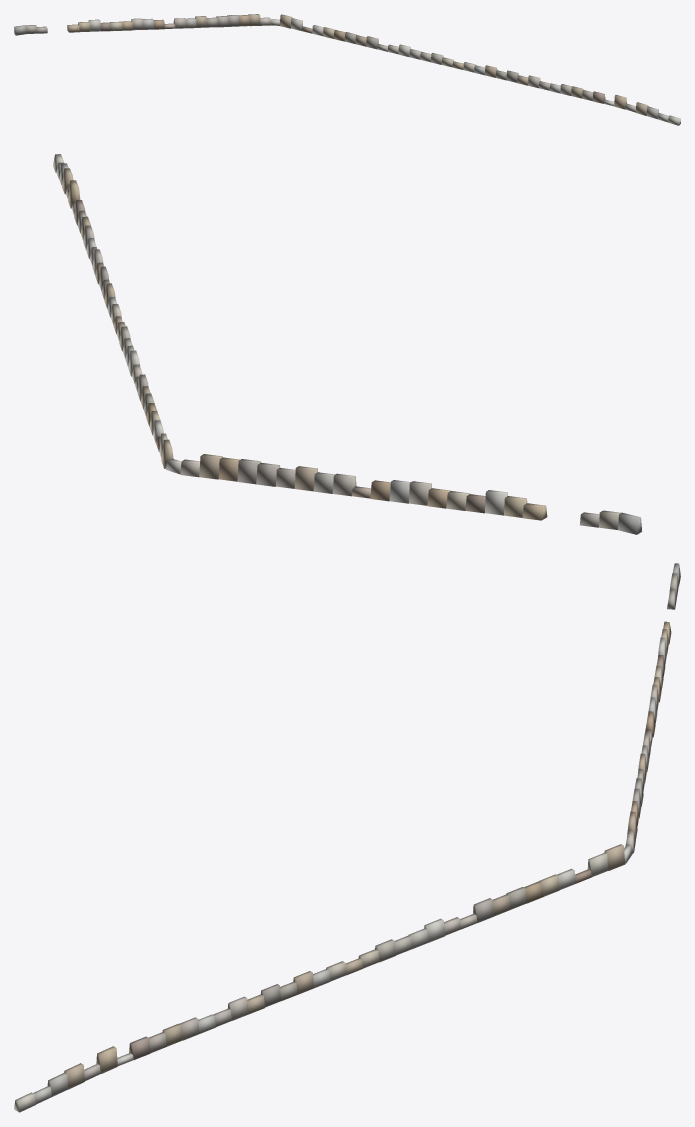
Rendered from farm_0_4_collision.glb.
The picture shows the model from 3 angles, top to bottom: view 1: azimuth 30°, elevation 25°; view 2: azimuth 150°, elevation 25°; view 3: azimuth 270°, elevation 25°; orthographic projection. The views are drawn at different scales.
Parts seen in each view (by area): view 1: geometry_0; view 2: geometry_0; view 3: geometry_0.
Boxes of the visible parts, x1,y1,x2,y2 form: geometry_0: (14, 14, 680, 125); geometry_0: (53, 154, 642, 534); geometry_0: (14, 563, 680, 1112).
Bounding box in the file's own units: 75.44 × 11.61 × 51.48.
